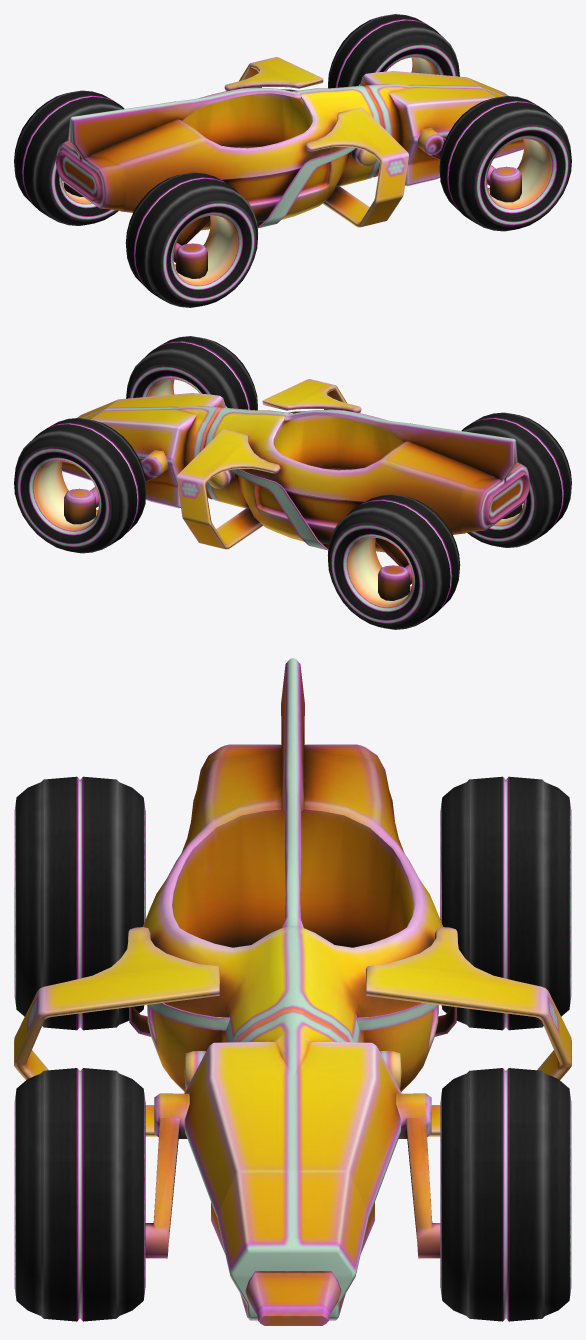
The model's file is TRON_GOLDENPINK.glb.
The picture shows the model from 3 angles, top to bottom: view 1: azimuth 30°, elevation 25°; view 2: azimuth 150°, elevation 25°; view 3: azimuth 270°, elevation 25°; orthographic projection. The views are drawn at different scales.
Parts seen in each view (by area): view 1: car_body, wheel_rr, wheel_fr, wheel_rl, wheel_fl; view 2: car_body, wheel_rl, wheel_fl, wheel_rr, wheel_fr; view 3: car_body, wheel_fr, wheel_fl, wheel_rl, wheel_rr.
Boxes of the visible parts, left/top/right/bottom form: car_body: left=56, top=57, right=524, bottom=278; wheel_rr: left=125, top=172, right=258, bottom=307; wheel_fr: left=439, top=96, right=571, bottom=231; wheel_rl: left=14, top=90, right=124, bottom=225; wheel_fl: left=328, top=14, right=459, bottom=88; car_body: left=61, top=379, right=529, bottom=600; wheel_rl: left=327, top=494, right=460, bottom=629; wheel_fl: left=14, top=418, right=146, bottom=553; wheel_rr: left=461, top=412, right=571, bottom=547; wheel_fr: left=126, top=336, right=257, bottom=410; car_body: left=14, top=658, right=571, bottom=1325; wheel_fr: left=14, top=1068, right=145, bottom=1321; wheel_fl: left=440, top=1068, right=571, bottom=1321; wheel_rl: left=440, top=776, right=571, bottom=1030; wheel_rr: left=14, top=776, right=145, bottom=1030.
Size of the model in its own units: 0.2933 by 0.0933 by 0.1566.
Materials: 2 (2 with a texture image).
